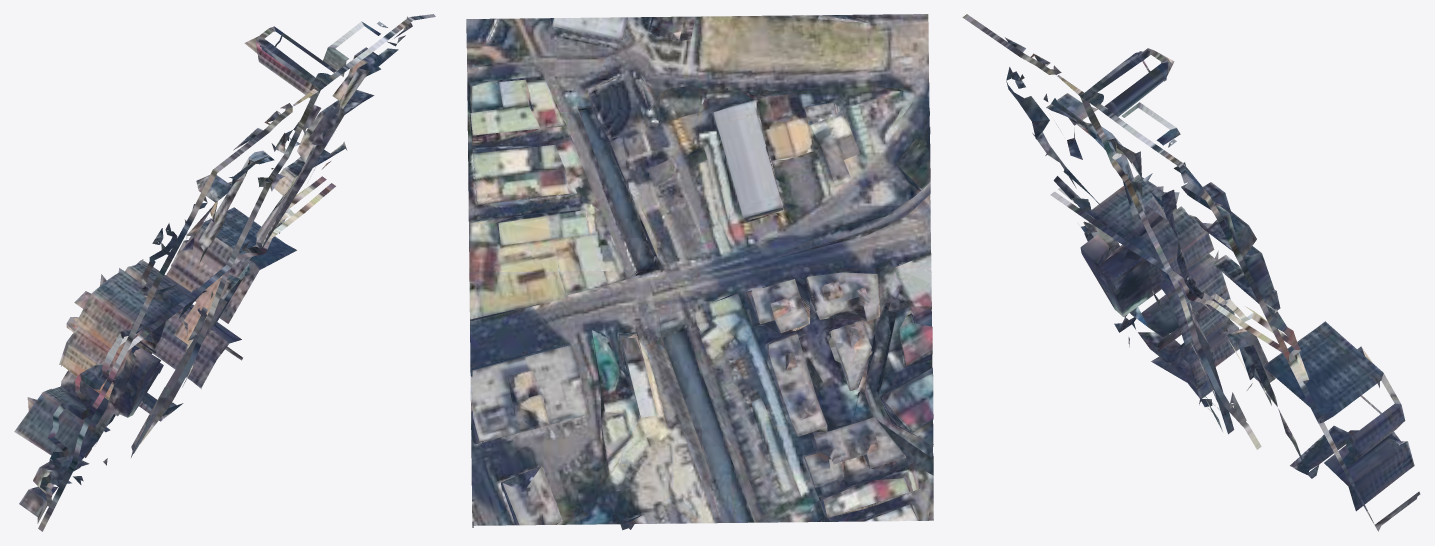
3 views of the same model, side by side, from view 1: azimuth 30°, elevation 25°; view 2: azimuth 150°, elevation 25°; view 3: azimuth 270°, elevation 25° (orthographic). The views are drawn at different scales.
Bounding box in the file's own units: 309 × 301 × 286.
1 material, 1 textured.
